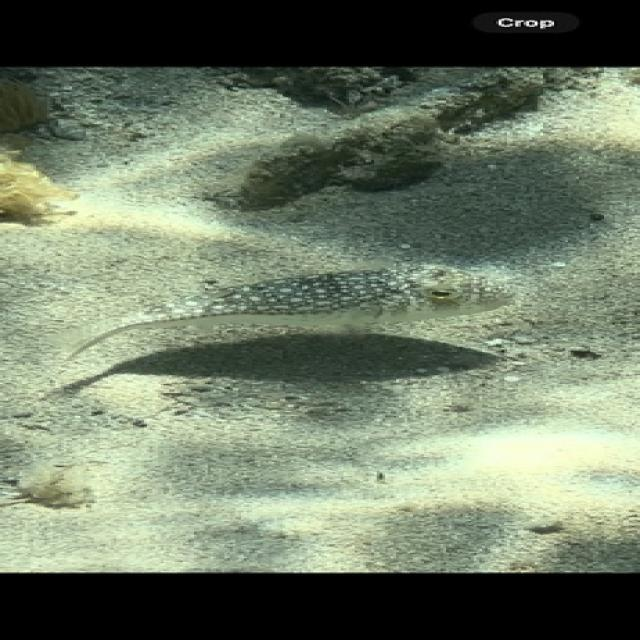Balik: (61, 265, 513, 357)
